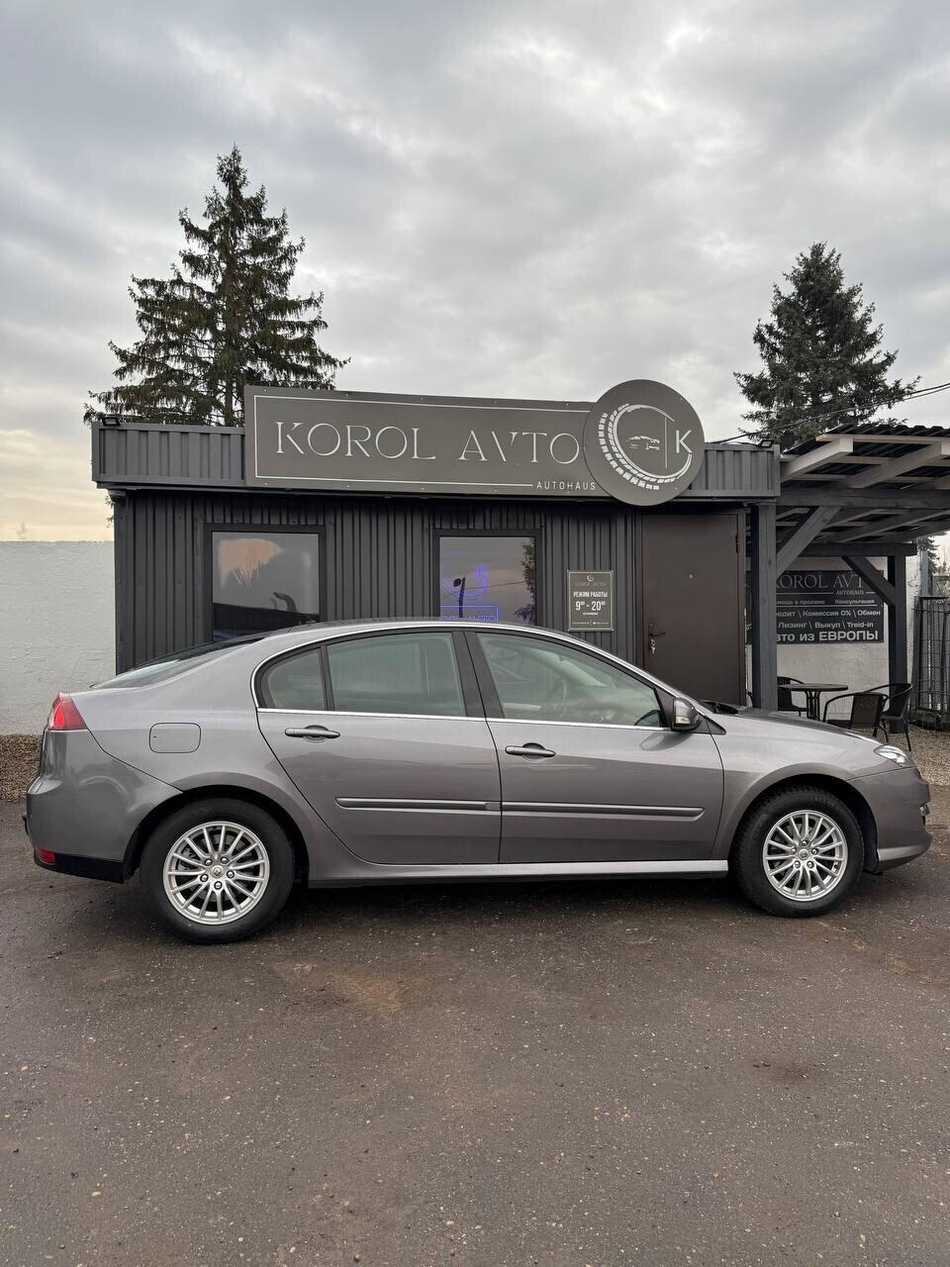Laguna_2010-2015: (16, 601, 942, 930)
